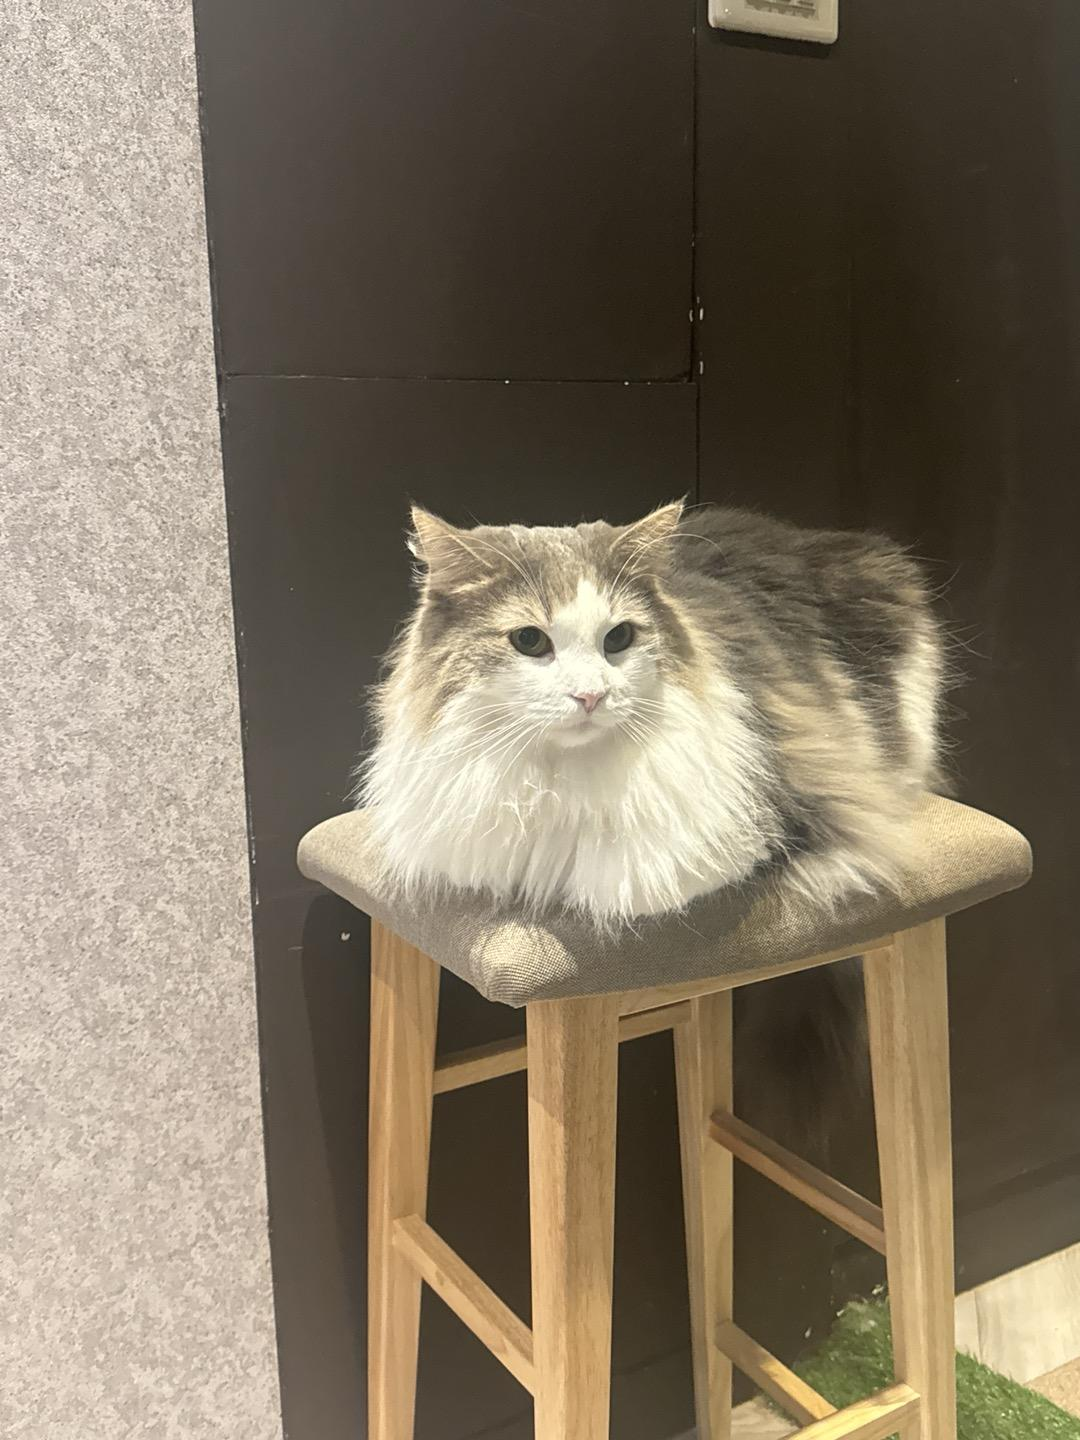cat: (348, 492, 979, 939)
